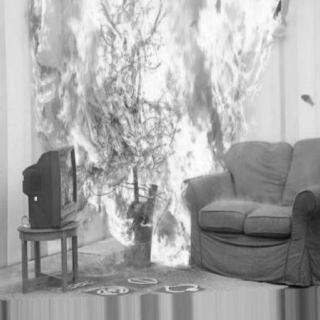Fire: (34, 1, 278, 139), (80, 139, 208, 263)
